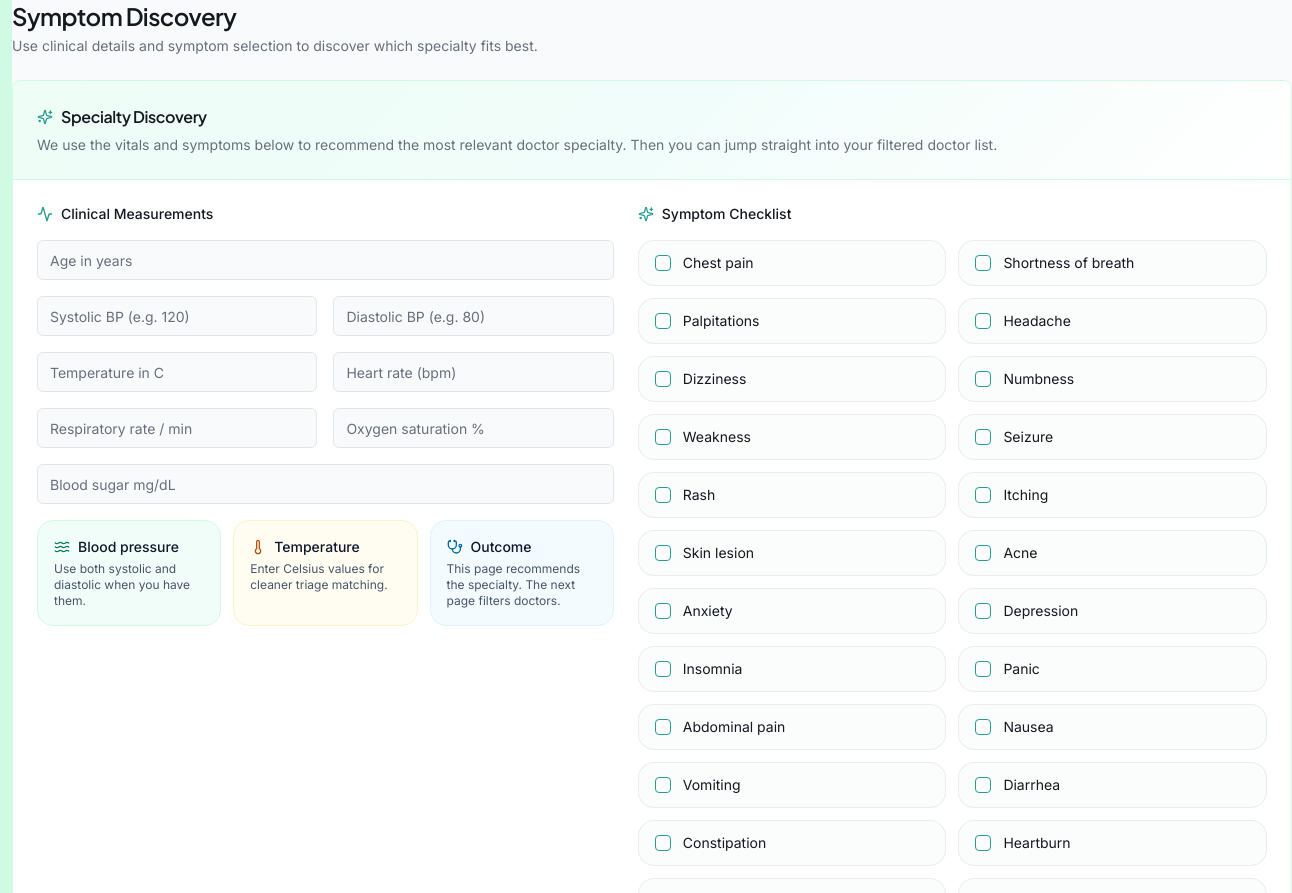
Scenario: Mediflow - Unit Tests › AI Assistance - Symptom Discovery › displays recommended specialty upon successful assessment
Type "45" into the number field with placeholder "Age in years" at (325, 260), box [37,240,614,280]
(page scrolled)
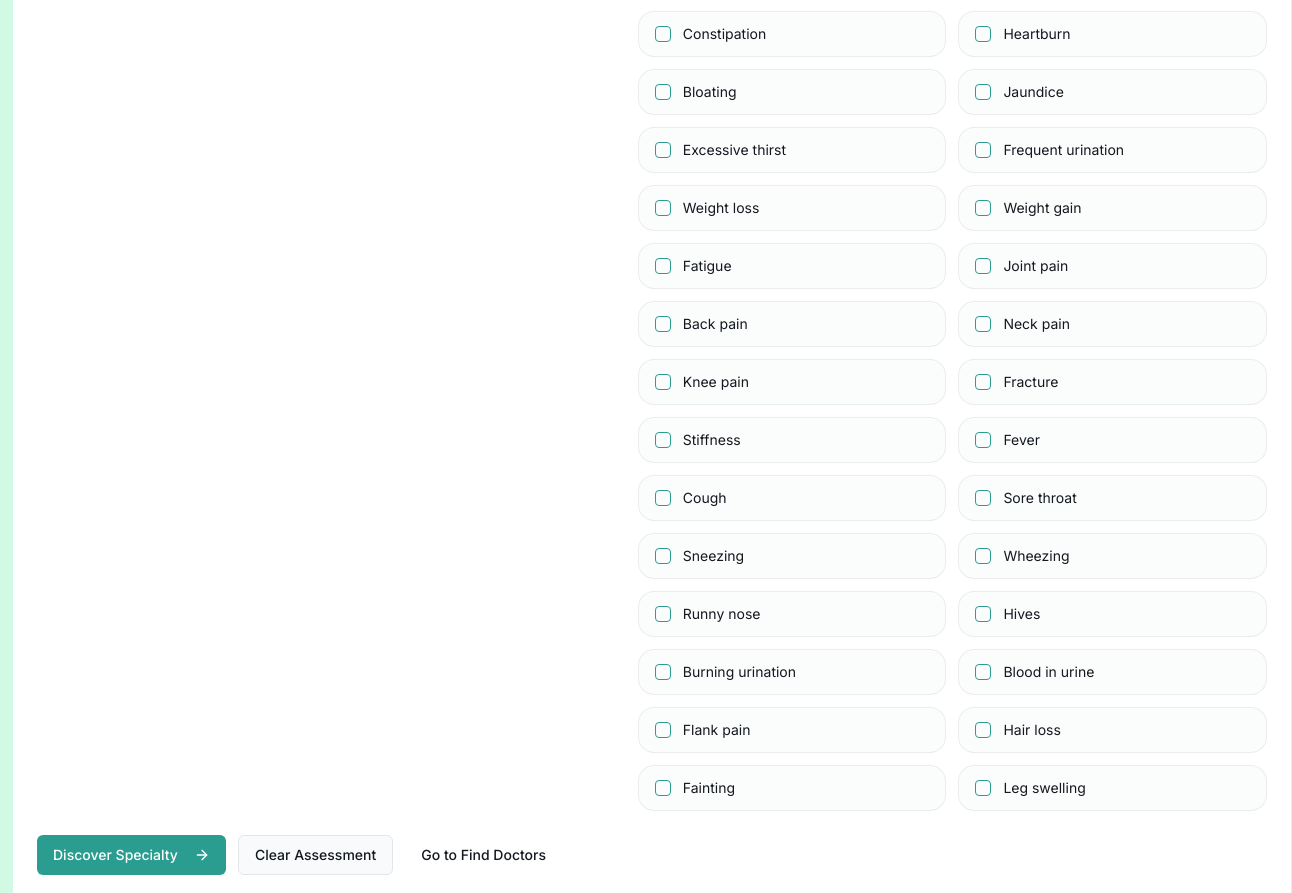
Click the button "Discover Specialty" at (131, 855), box [37,835,226,875]
(page scrolled)
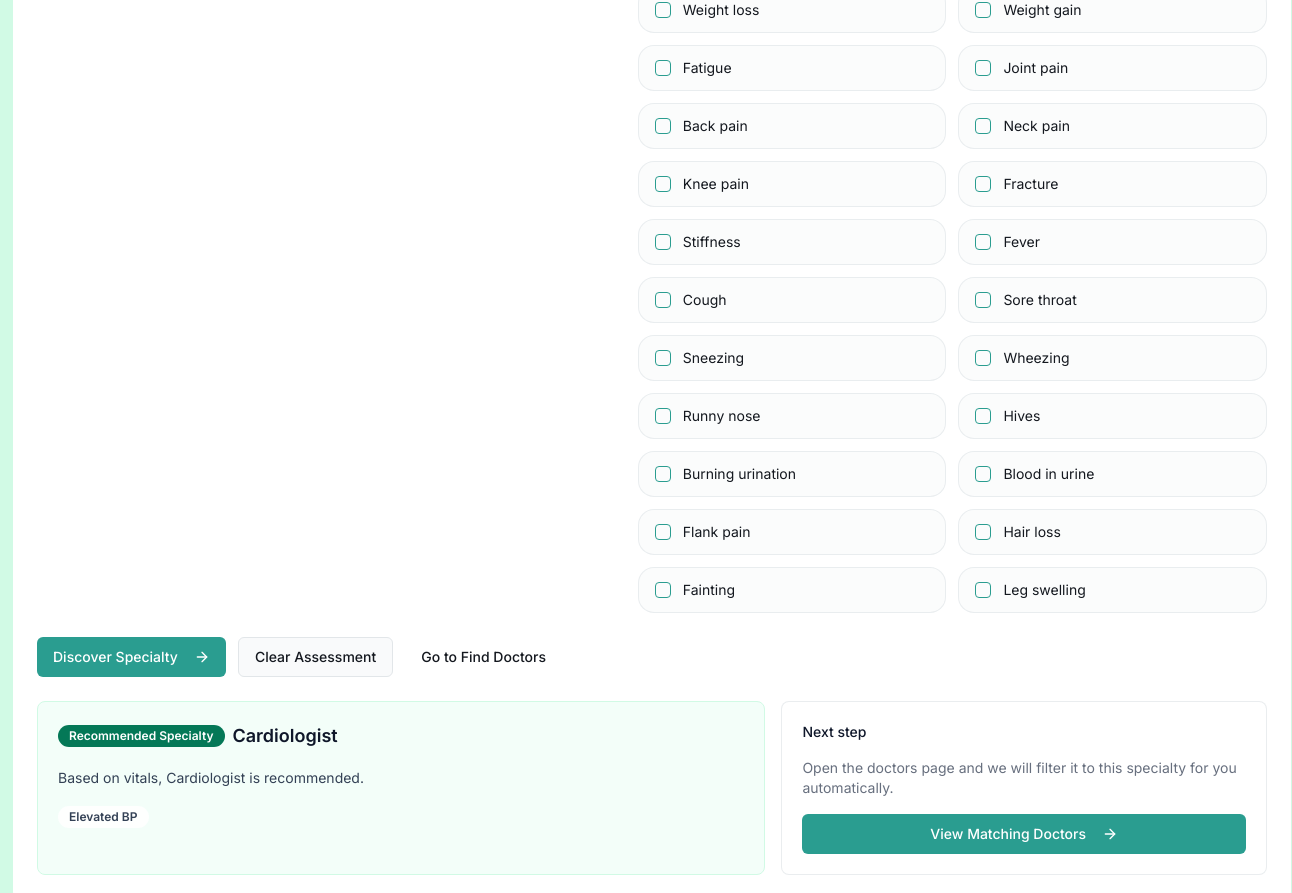
Expected: the text "Cardiologist" is shown, [232,722,338,750]
Expected: the text "Based on vitals, Cardiologist is recommended." is shown, [58,769,364,786]
Expected: the text "Elevated BP" is shown, [58,806,148,828]
